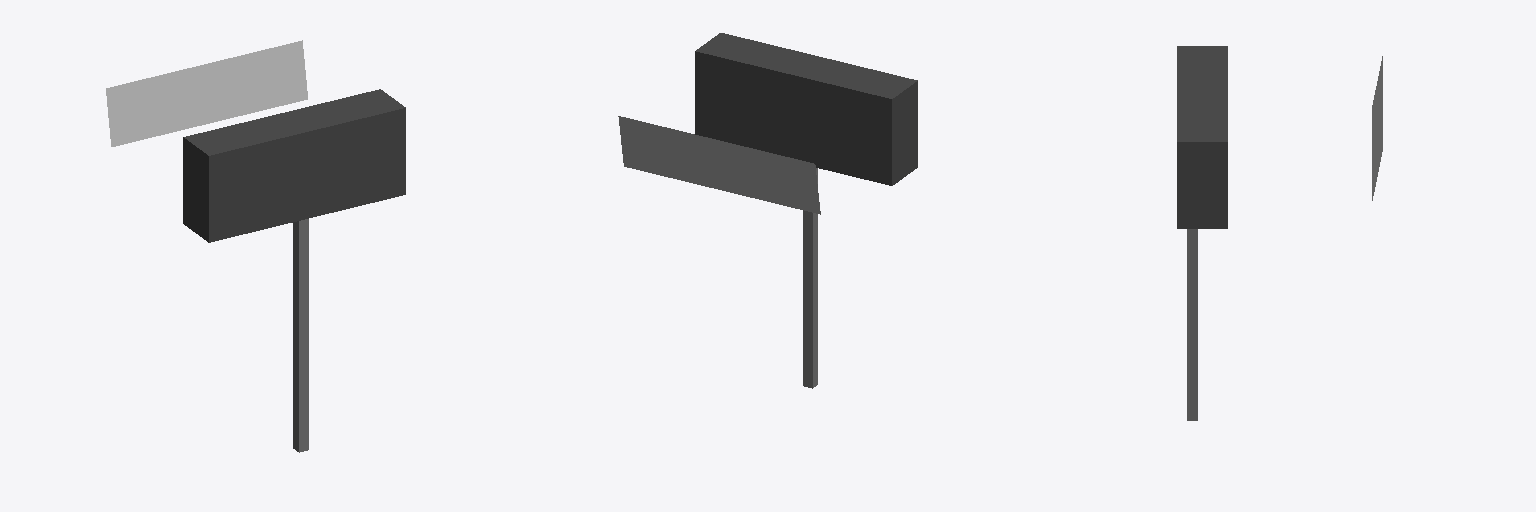
The model's file is s600Sign.obj.
The picture shows the model from 3 angles: view 1: azimuth 30°, elevation 25°; view 2: azimuth 150°, elevation 25°; view 3: azimuth 270°, elevation 25°; orthographic projection.
Visible parts, largest first — view 1: Cube.002, Plane, Cube.001; view 2: Cube.002, Plane, Cube.001; view 3: Cube.002, Cube.001, Plane.
Boxes of the visible parts, x1,y1,x2,y2 form: Cube.002: [183, 89, 405, 242]; Plane: [106, 40, 307, 146]; Cube.001: [293, 219, 308, 452]; Cube.002: [695, 33, 917, 185]; Plane: [618, 116, 820, 214]; Cube.001: [803, 168, 817, 388]; Cube.002: [1177, 46, 1227, 228]; Cube.001: [1187, 229, 1197, 420]; Plane: [1372, 56, 1382, 200].
Bounding box in the file's own units: 4.01 × 6.28 × 3.62.